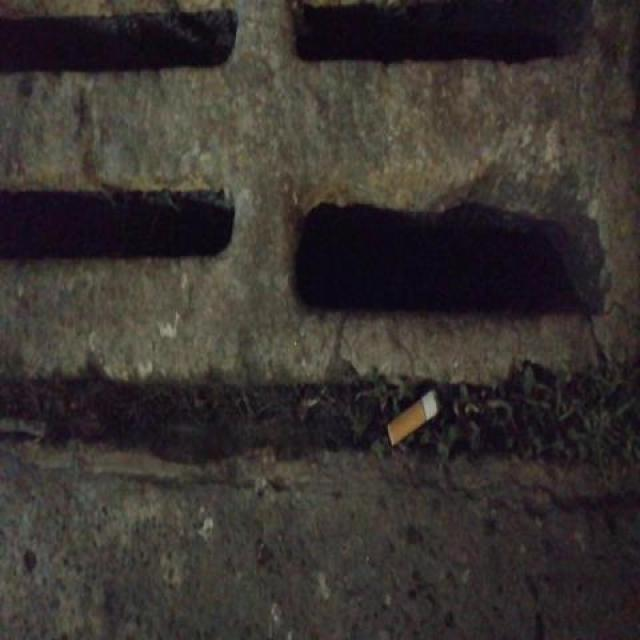non-organic waste: (384, 383, 444, 449)
